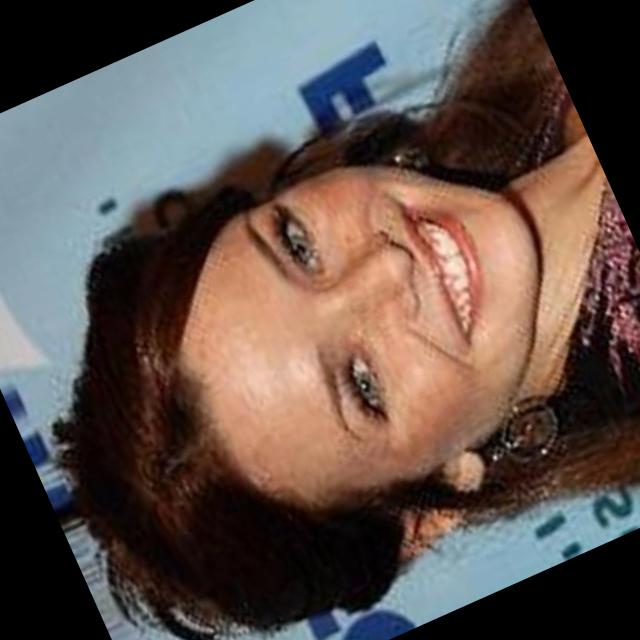bareface: (56, 103, 606, 622)
